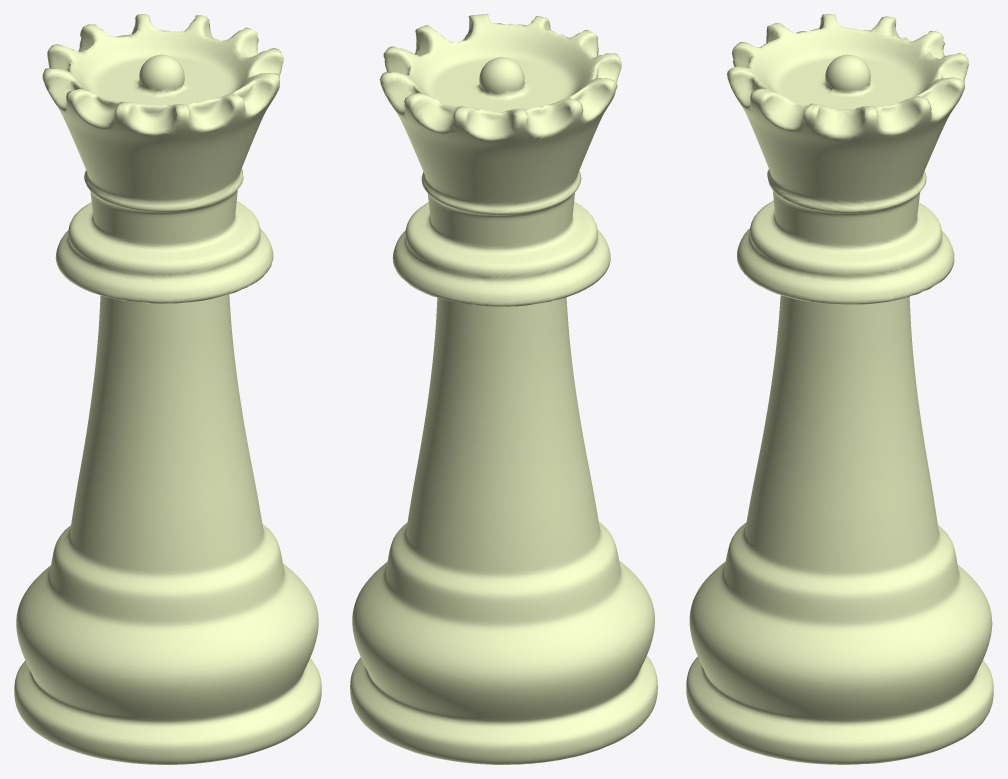
File: Queen.fbx
3 views of the same model, side by side, from view 1: azimuth 30°, elevation 25°; view 2: azimuth 150°, elevation 25°; view 3: azimuth 270°, elevation 25° (orthographic).
Parts seen in each view (by area): view 1: Queen; view 2: Queen; view 3: Queen.
Boxes of the visible parts, <box> form: Queen: <box>14,14,321,764</box>; Queen: <box>350,14,657,764</box>; Queen: <box>686,14,993,764</box>.
Size of the model in its own units: 3.54 by 8.21 by 3.54.
